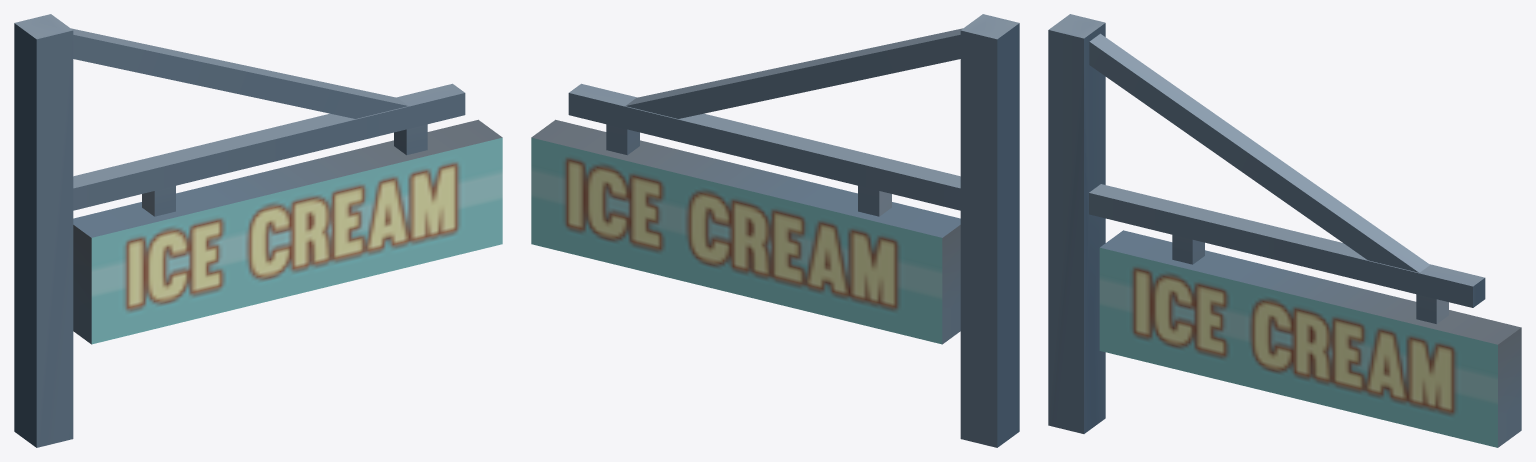
The model's file is SM_Sign_IceCream_01.fbx.
The picture shows the model from 3 angles, left to right: view 1: azimuth 30°, elevation 25°; view 2: azimuth 150°, elevation 25°; view 3: azimuth 330°, elevation 25°; orthographic projection. The views are drawn at different scales.
Parts seen in each view (by area): view 1: SM_Sign_IceCream_01; view 2: SM_Sign_IceCream_01; view 3: SM_Sign_IceCream_01.
Part boxes in pixels (bbox=[...]): SM_Sign_IceCream_01: bbox=[14, 14, 502, 447]; SM_Sign_IceCream_01: bbox=[531, 14, 1019, 447]; SM_Sign_IceCream_01: bbox=[1048, 14, 1521, 447].
Size of the model in its own units: 2.35 by 1.97 by 0.2137.
